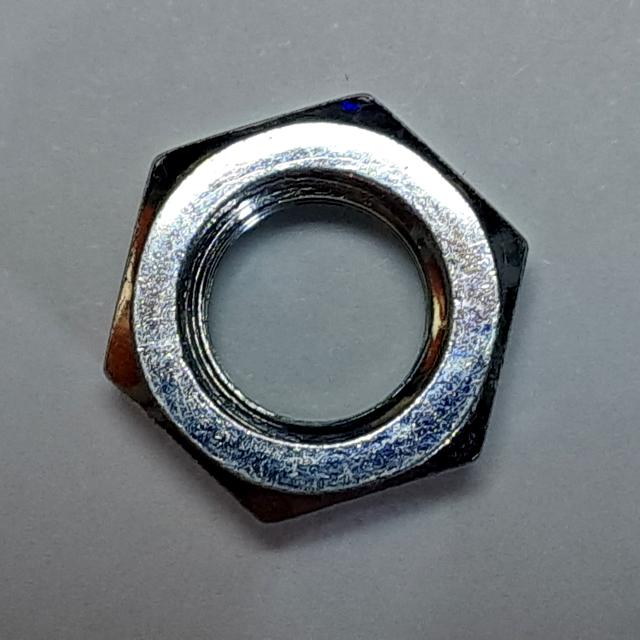Excellent: (89, 85, 558, 547)
